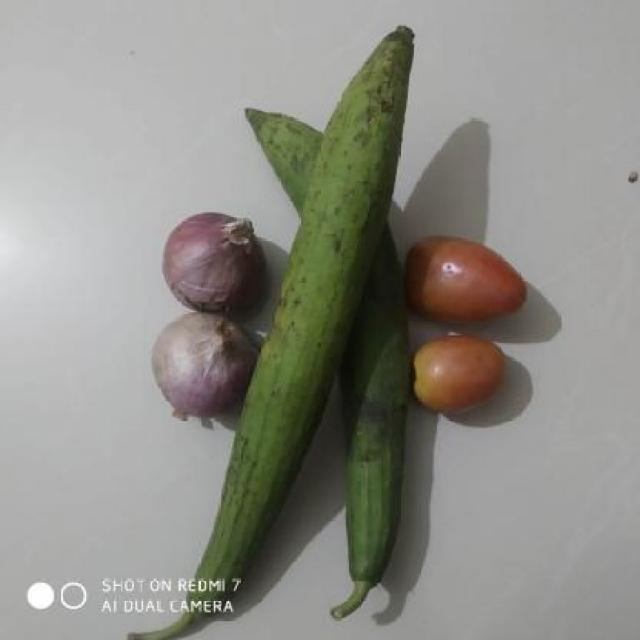Onion: (148, 303, 258, 423), (163, 211, 263, 314)
Sponge Gourd: (250, 38, 416, 640)
Tomato: (404, 224, 530, 336), (400, 326, 523, 419)
